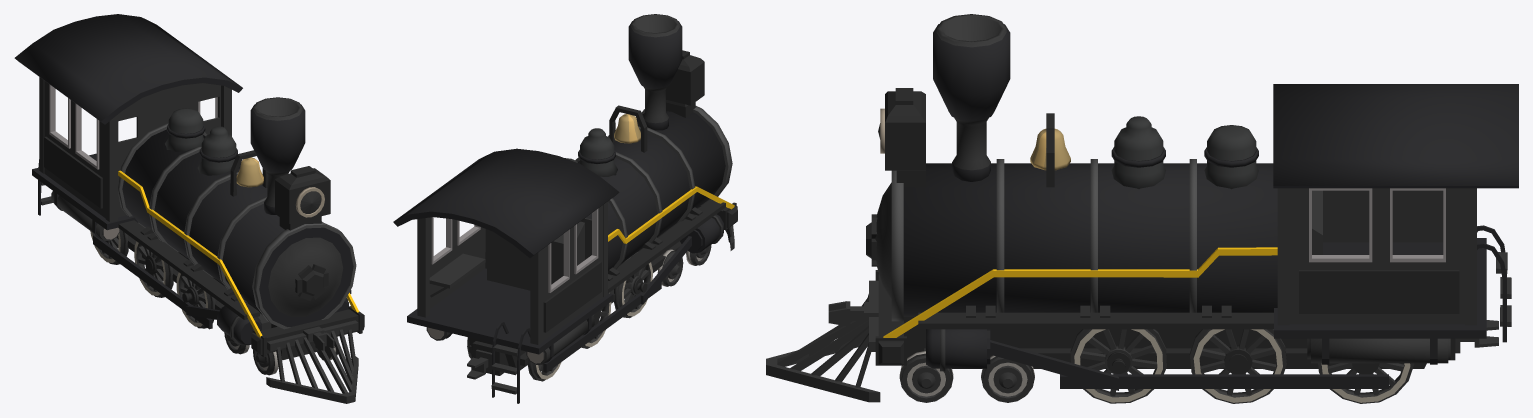
The model's file is Train Machine.glb.
3 renders of one model, left to right at view 1: azimuth 30°, elevation 25°; view 2: azimuth 150°, elevation 25°; view 3: azimuth 270°, elevation 25°, orthographic. The views are drawn at different scales.
Parts seen in each view (by area): view 1: Train Machine; view 2: Train Machine; view 3: Train Machine.
Boxes of the visible parts, bbox=[...] form: Train Machine: bbox=[14, 14, 364, 403]; Train Machine: bbox=[393, 14, 737, 403]; Train Machine: bbox=[766, 14, 1518, 403].
Size of what is drawn, in the model's own units: 3.1 by 5.19 by 10.02.
Materials: 1 (1 with a texture image).
